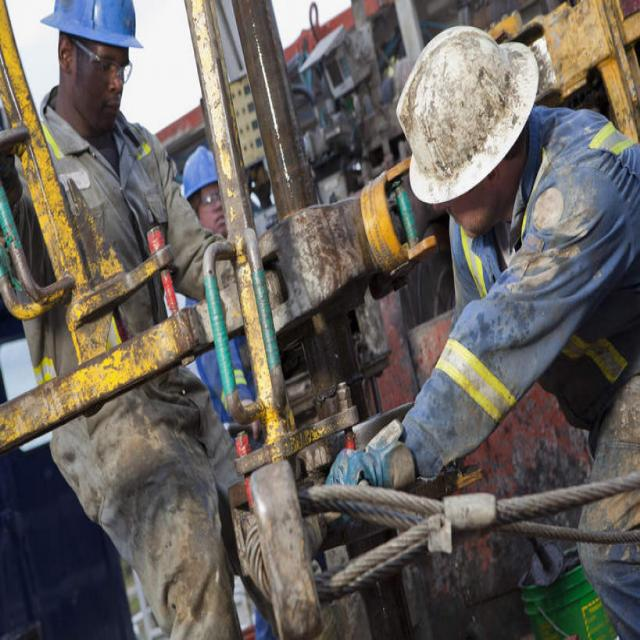Reflective-Jacket: (437, 116, 637, 477), (21, 111, 160, 379)
Safety-Helmet: (394, 20, 538, 207), (38, 1, 148, 53), (180, 144, 220, 198)
